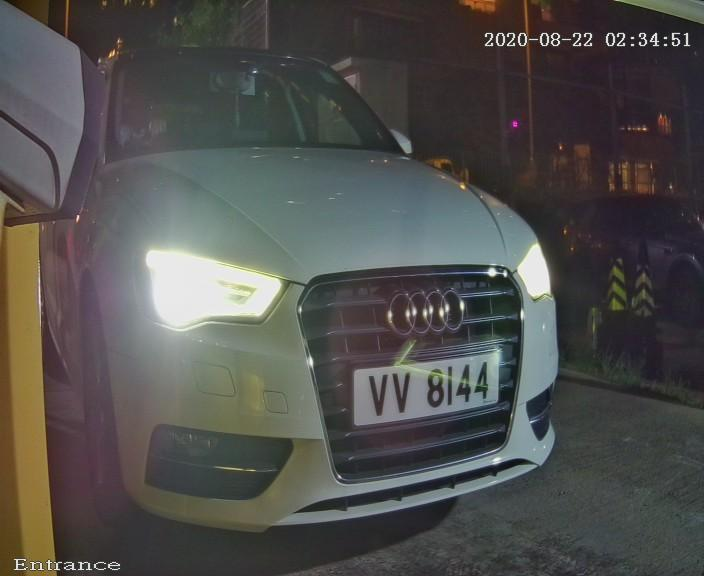Car: (26, 8, 607, 551)
License Plate: (343, 348, 503, 430)
